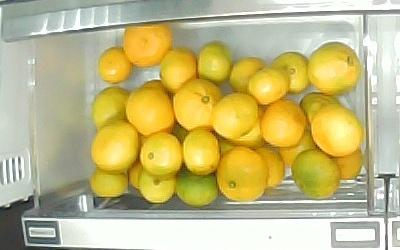tangerine: (307, 41, 362, 96), (216, 147, 267, 201), (310, 106, 362, 156), (172, 79, 222, 130), (291, 147, 340, 199), (91, 121, 139, 172), (259, 100, 307, 147), (127, 88, 174, 135), (210, 93, 258, 139), (123, 25, 173, 67), (181, 128, 220, 175), (138, 132, 181, 174), (91, 86, 129, 133), (270, 52, 310, 94), (160, 48, 198, 92), (248, 67, 290, 104), (254, 147, 286, 192), (175, 172, 218, 205), (197, 42, 231, 83), (230, 57, 267, 94), (278, 131, 316, 166), (98, 47, 133, 83), (300, 92, 341, 122), (137, 171, 175, 203), (329, 150, 365, 182), (89, 171, 128, 197)
